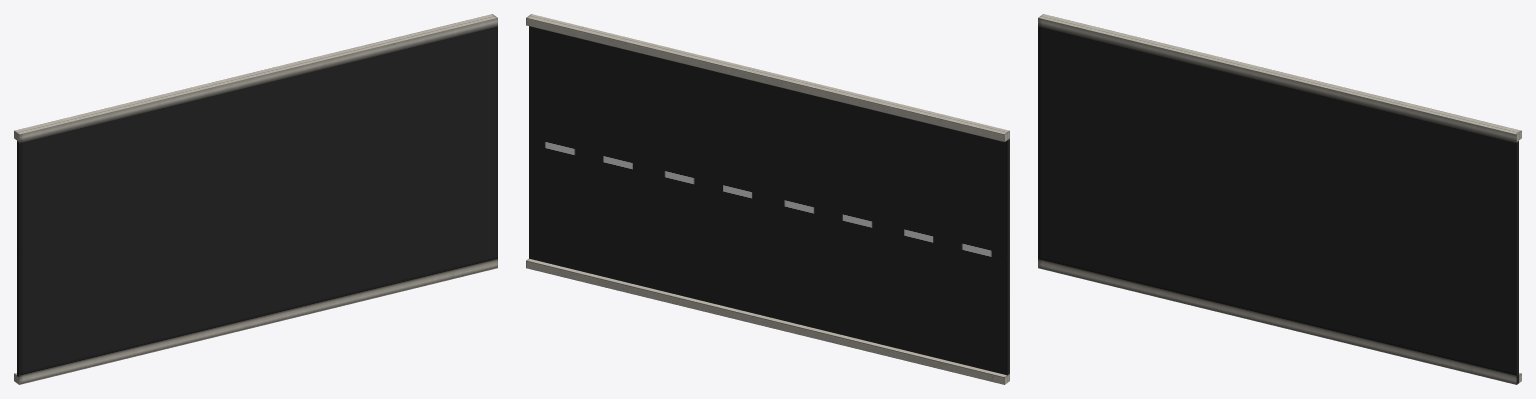
The model's file is asphalt-road-block-subwalk-8m.obj.
3 renders of one model, left to right at view 1: azimuth 30°, elevation 25°; view 2: azimuth 150°, elevation 25°; view 3: azimuth 330°, elevation 25°, orthographic.
Parts seen in each view (by area): view 1: asphalt-road-block-subwalk-8m_Plane.038; view 2: asphalt-road-block-subwalk-8m_Plane.038; view 3: asphalt-road-block-subwalk-8m_Plane.038.
Part boxes in pixels (x1,y1,x2,y2): asphalt-road-block-subwalk-8m_Plane.038: (14, 14, 497, 384); asphalt-road-block-subwalk-8m_Plane.038: (526, 14, 1009, 384); asphalt-road-block-subwalk-8m_Plane.038: (1038, 14, 1521, 384).
Size of the model in its own units: 8 by 4 by 0.15.
